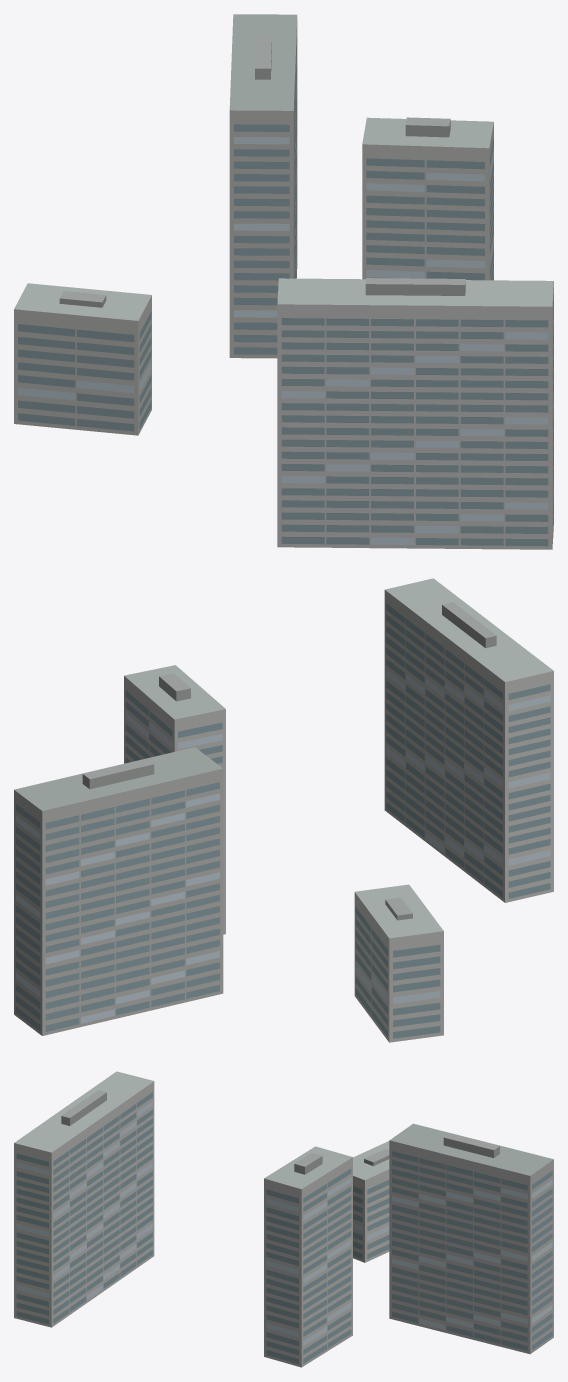
The model's file is apt-a15005102.glb.
3 views of the same model, one above another, from view 1: azimuth 30°, elevation 25°; view 2: azimuth 150°, elevation 25°; view 3: azimuth 270°, elevation 25° (orthographic). The views are drawn at different scales.
Parts seen in each view (by area): view 1: apt-a15005102; view 2: apt-a15005102; view 3: apt-a15005102.
Boxes of the visible parts, x1,y1,x2,y2 form: apt-a15005102: (14, 14, 553, 549); apt-a15005102: (14, 578, 553, 1042); apt-a15005102: (14, 1071, 553, 1367).
Bounding box in the file's own units: 94.23 × 56 × 147.
